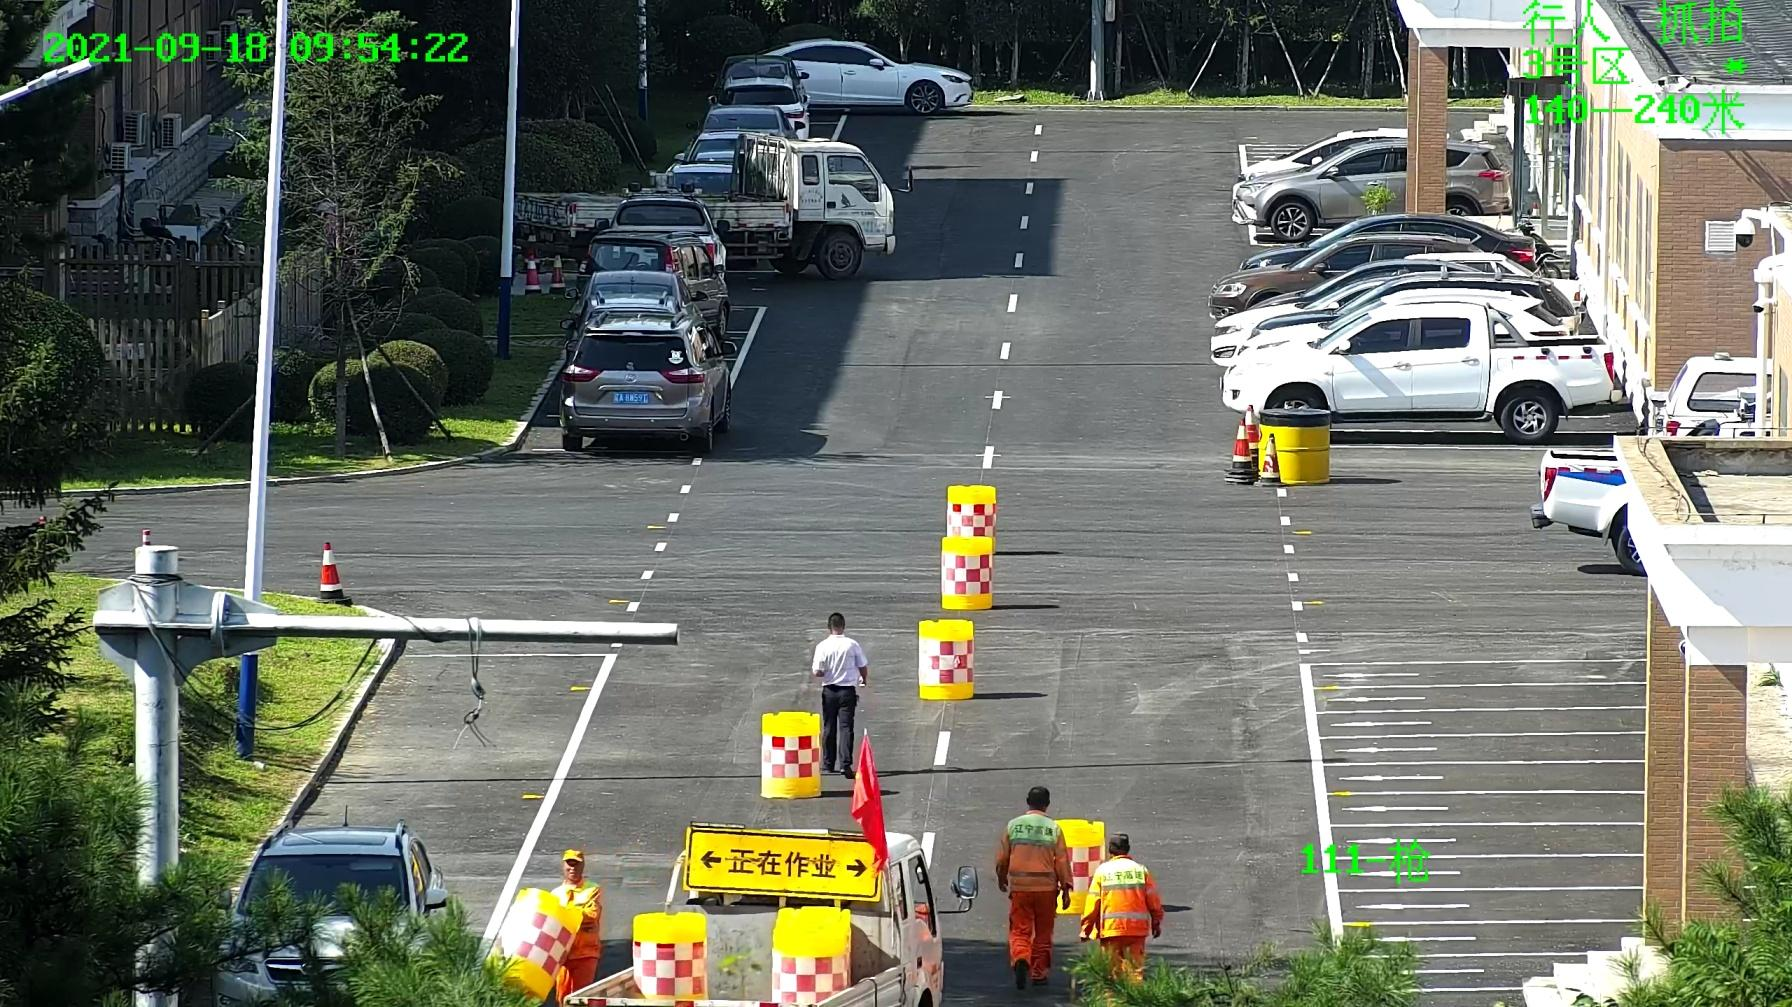cone_barrel: (482, 888, 581, 1000), (770, 911, 852, 1005), (633, 915, 705, 1002), (1051, 816, 1105, 915), (761, 714, 818, 799), (918, 622, 974, 700), (938, 533, 990, 611), (943, 483, 996, 531)
